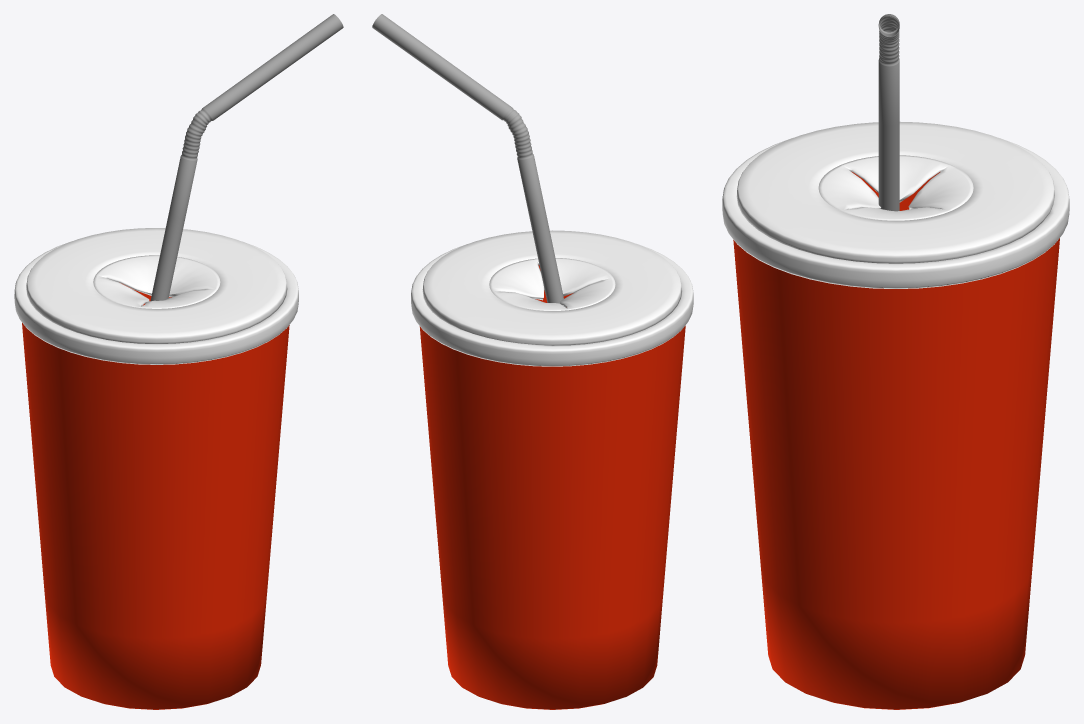
Rendered from cup.fbx.
The picture shows the model from 3 angles, left to right: view 1: azimuth 30°, elevation 25°; view 2: azimuth 150°, elevation 25°; view 3: azimuth 270°, elevation 25°; orthographic projection. The views are drawn at different scales.
Visible parts, largest first — view 1: cup, cap, straw; view 2: cup, cap, straw; view 3: cup, cap, straw.
Boxes of the visible parts, x1,y1,x2,y2 form: cup: (22, 283, 289, 709); cap: (14, 228, 298, 364); straw: (150, 14, 343, 301); cup: (419, 265, 685, 709); cap: (411, 230, 693, 366); straw: (372, 14, 565, 307); cup: (733, 171, 1059, 709); cap: (722, 121, 1069, 288); straw: (878, 14, 899, 211).
Size of the model in its own units: 191 by 366 by 154.
3 materials, 1 textured.
